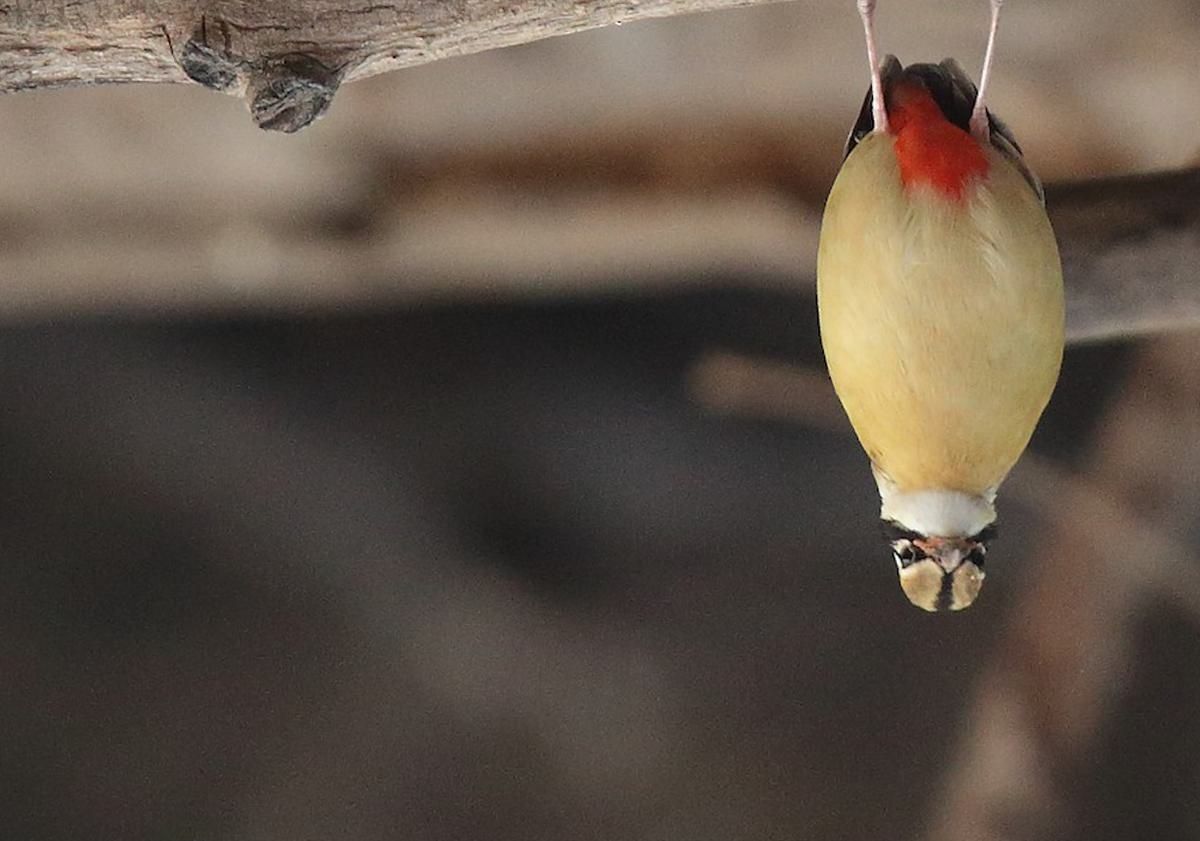pitta: (818, 47, 1073, 626)
